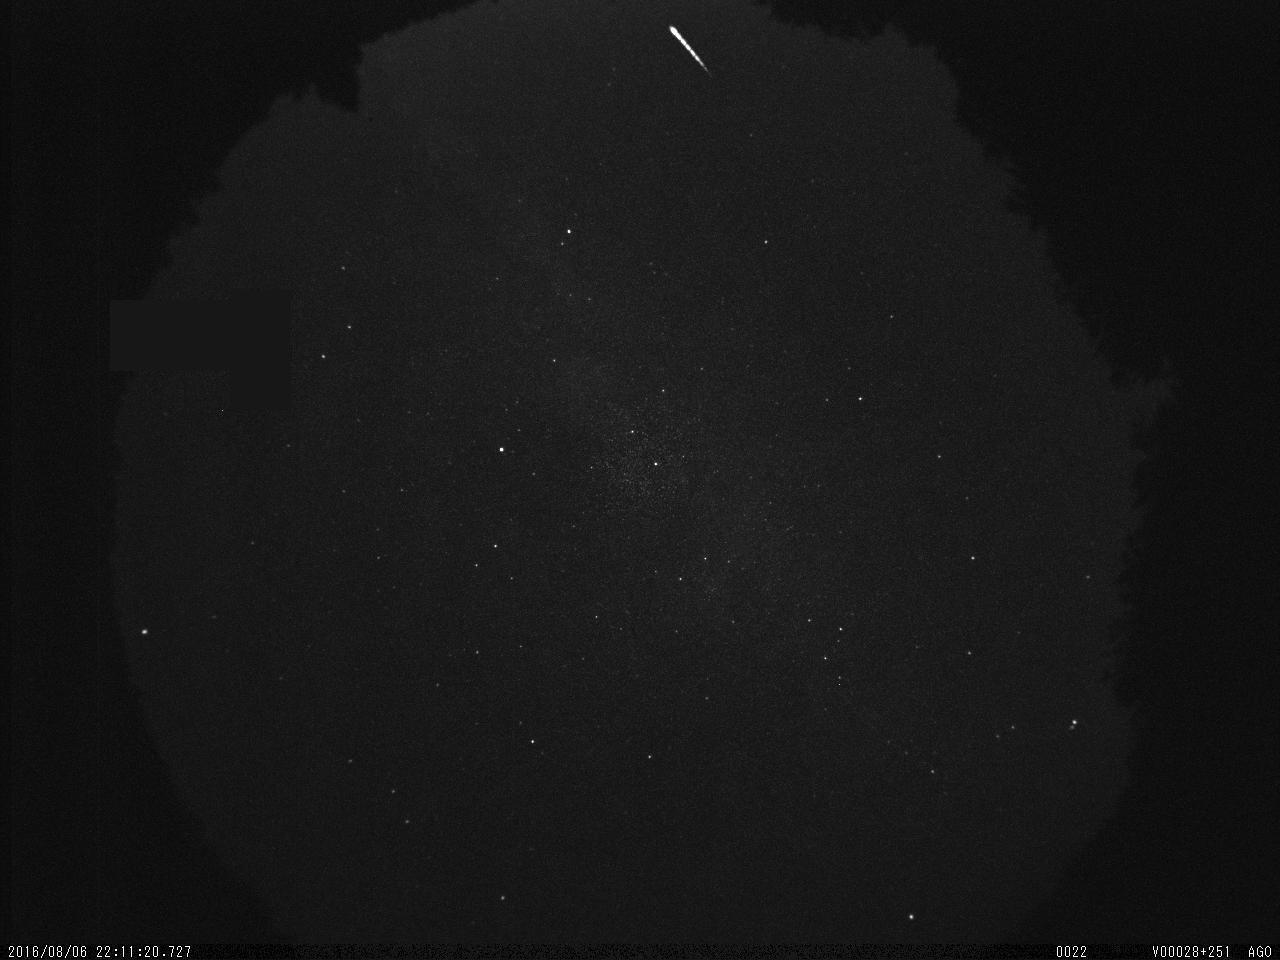Meteor: (666, 23, 711, 76)
